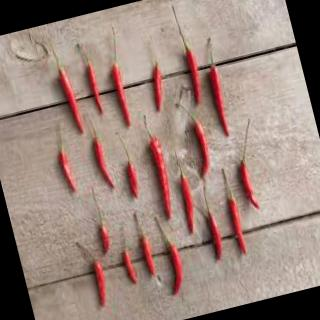Cabai Merah: (149, 134, 183, 224), (220, 188, 258, 262), (186, 112, 222, 184), (179, 44, 213, 110), (53, 132, 86, 199), (209, 66, 237, 138), (60, 68, 87, 134), (89, 255, 117, 318), (204, 204, 231, 268), (110, 64, 136, 129), (83, 59, 110, 121), (177, 176, 204, 235), (163, 243, 192, 295), (91, 138, 118, 192), (137, 231, 163, 282), (240, 162, 263, 213), (148, 64, 171, 113), (121, 246, 145, 292), (97, 223, 119, 263), (126, 161, 146, 202)
